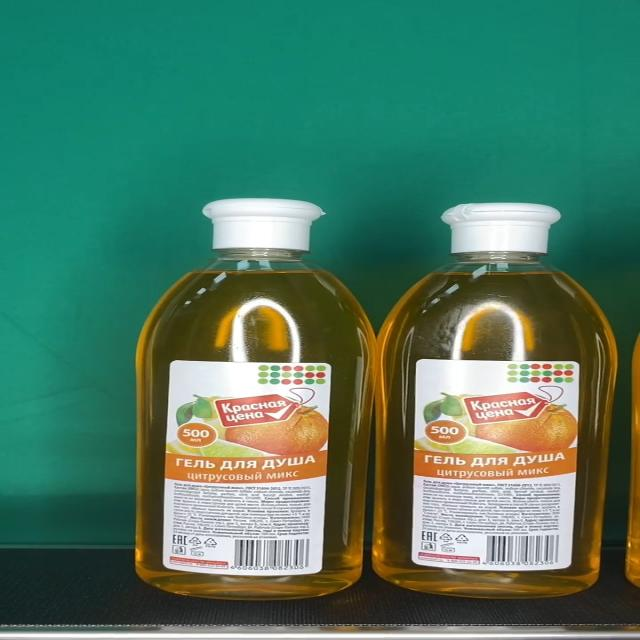Bottle: (133, 199, 377, 599), (373, 202, 617, 598)
Cap: (441, 202, 561, 253), (203, 198, 323, 248)
